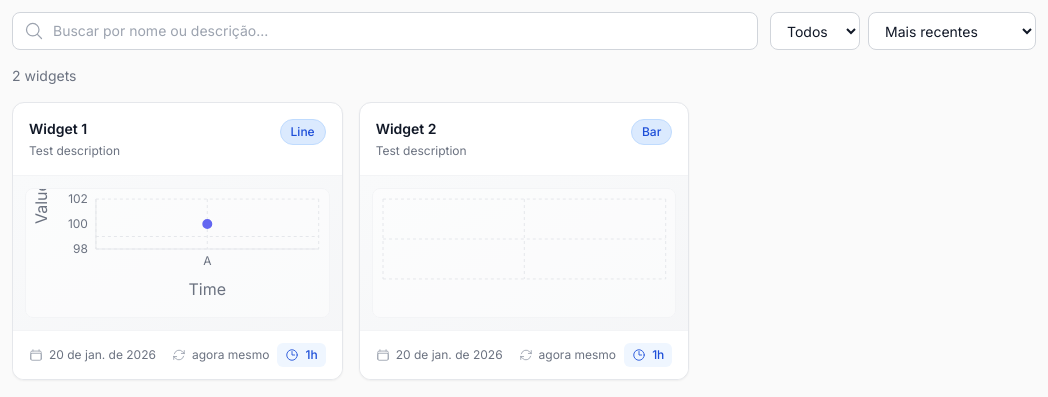
WidgetList › Clear Filters › should clear all filters when button is clicked
The width and height of the screenshot is (1048, 397).
Note: Apply filters
Type "Widget 1" into the field with placeholder "Buscar por nome ou descrição..." at x=385, y=31, box [12,12,758,50]
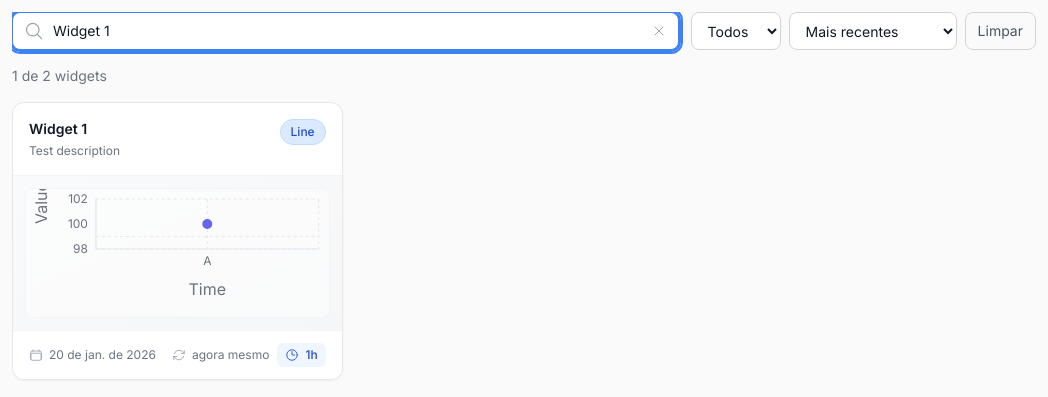
Note: Clear filters
Click the button "Limpar" at x=1000, y=31, box [965,12,1036,50]
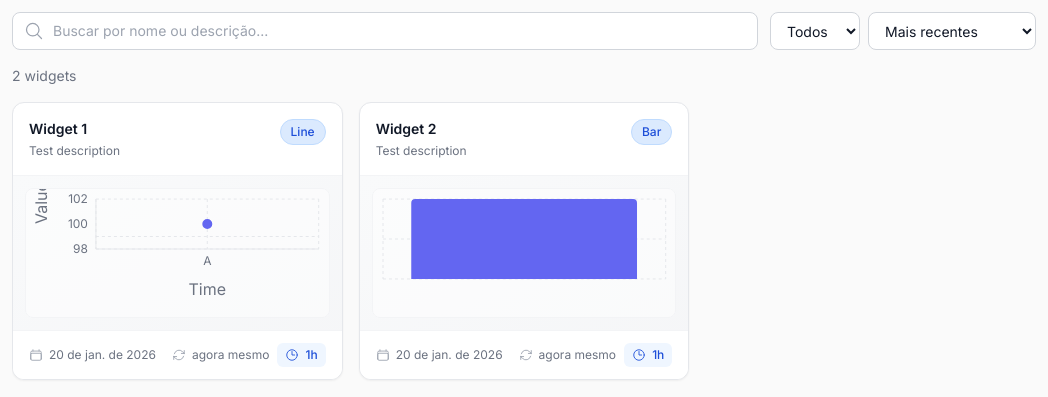
Expected: the heading "Widget 1" is shown, [29,120,87,137]
Result: the heading "Widget 2" is shown at [376,120,437,137]
